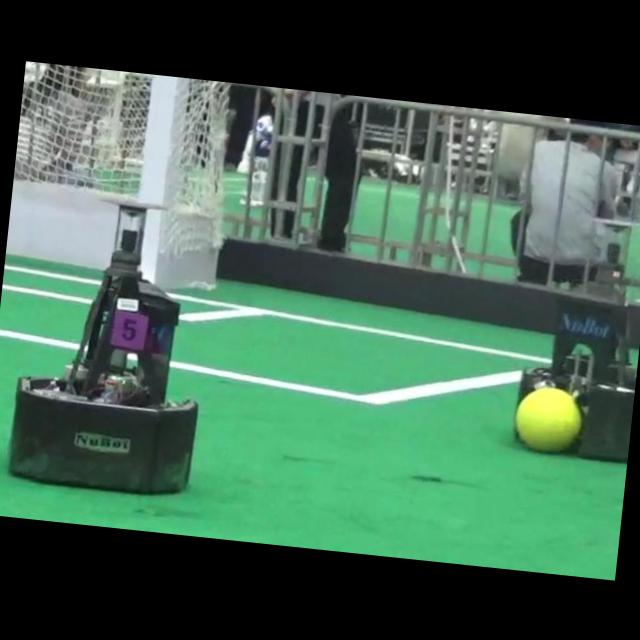ball: (515, 386, 581, 450)
goal: (138, 73, 178, 280)
robot: (8, 203, 198, 492), (518, 218, 636, 460)
